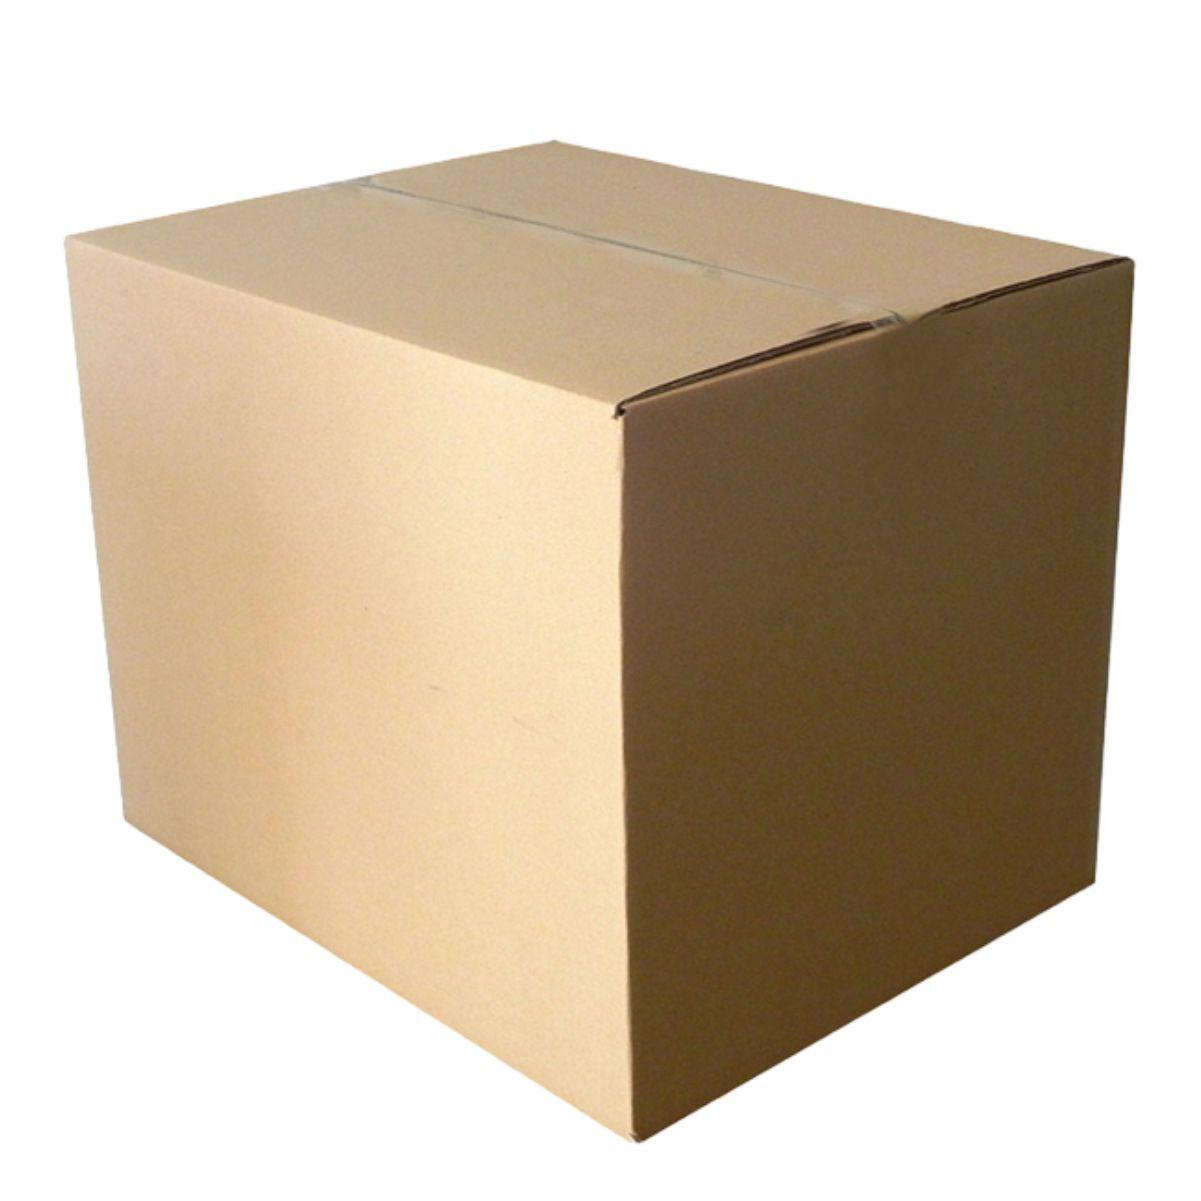plastic: (10, 111, 1139, 1168)
